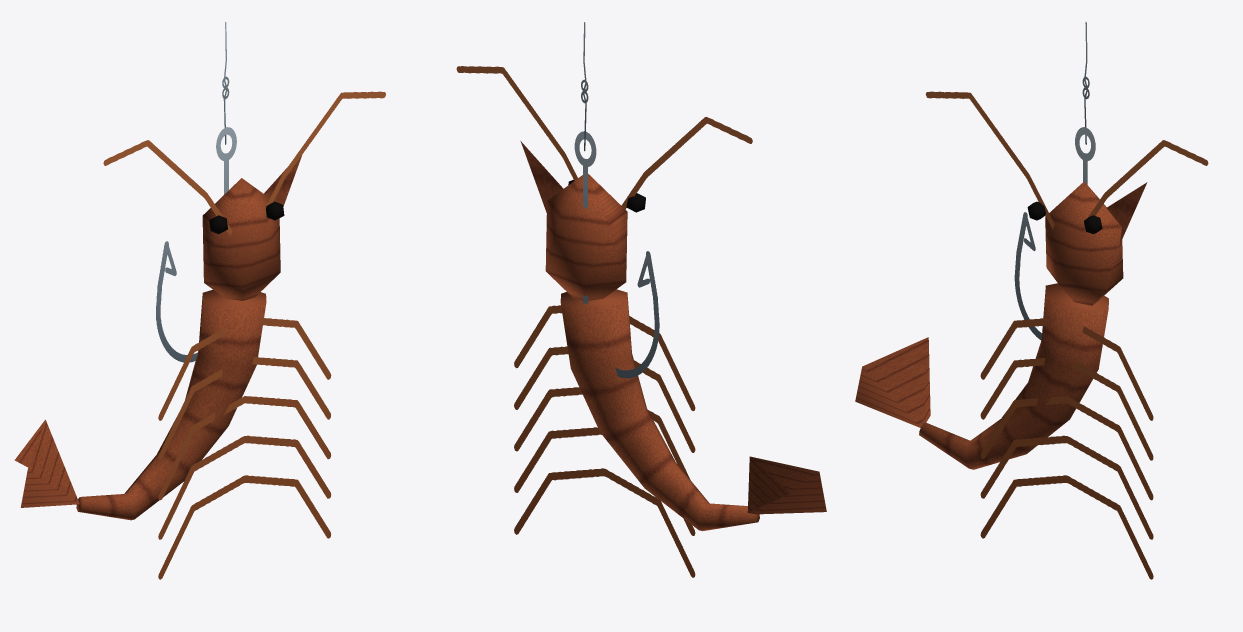
File: dead_shrimp.glb
3 renders of one model, left to right at view 1: azimuth 30°, elevation 25°; view 2: azimuth 150°, elevation 25°; view 3: azimuth 330°, elevation 25°, orthographic. The views are drawn at different scales.
Parts seen in each view (by area): view 1: dead_shrimp__Shrimp_abdomen_MESH, dead_shrimp__Shrimp_legs_and_antennae_ALPHA, dead_shrimp__Shrimp_head_MESH, dead_shrimp__Shrimp_tail_fan_MESH, dead_shrimp__Hook_ALPHA_only.001, dead_shrimp__Shrimp_rostrum_MESH; view 2: dead_shrimp__Shrimp_abdomen_MESH, dead_shrimp__Shrimp_legs_and_antennae_ALPHA, dead_shrimp__Shrimp_head_MESH, dead_shrimp__Shrimp_tail_fan_MESH, dead_shrimp__Hook_ALPHA_only.001, dead_shrimp__Shrimp_rostrum_MESH; view 3: dead_shrimp__Shrimp_abdomen_MESH, dead_shrimp__Shrimp_legs_and_antennae_ALPHA, dead_shrimp__Shrimp_head_MESH, dead_shrimp__Shrimp_tail_fan_MESH, dead_shrimp__Hook_ALPHA_only.001, dead_shrimp__Shrimp_rostrum_MESH.
Boxes of the visible parts, bbox=[...] form: dead_shrimp__Shrimp_abdomen_MESH: bbox=[76, 289, 266, 520]; dead_shrimp__Shrimp_legs_and_antennae_ALPHA: bbox=[103, 91, 385, 579]; dead_shrimp__Shrimp_head_MESH: bbox=[202, 178, 280, 300]; dead_shrimp__Shrimp_tail_fan_MESH: bbox=[14, 419, 79, 507]; dead_shrimp__Hook_ALPHA_only.001: bbox=[156, 127, 236, 362]; dead_shrimp__Shrimp_rostrum_MESH: bbox=[264, 155, 301, 206]; dead_shrimp__Shrimp_abdomen_MESH: bbox=[560, 289, 759, 531]; dead_shrimp__Shrimp_legs_and_antennae_ALPHA: bbox=[456, 66, 752, 577]; dead_shrimp__Shrimp_head_MESH: bbox=[545, 174, 627, 300]; dead_shrimp__Shrimp_tail_fan_MESH: bbox=[747, 456, 826, 514]; dead_shrimp__Hook_ALPHA_only.001: bbox=[574, 131, 659, 378]; dead_shrimp__Shrimp_rostrum_MESH: bbox=[520, 141, 563, 213]; dead_shrimp__Shrimp_abdomen_MESH: bbox=[919, 283, 1108, 469]; dead_shrimp__Shrimp_legs_and_antennae_ALPHA: bbox=[925, 91, 1208, 579]; dead_shrimp__Shrimp_head_MESH: bbox=[1045, 181, 1123, 305]; dead_shrimp__Shrimp_tail_fan_MESH: bbox=[855, 337, 930, 427]; dead_shrimp__Hook_ALPHA_only.001: bbox=[1014, 127, 1095, 340]; dead_shrimp__Shrimp_rostrum_MESH: bbox=[1106, 182, 1147, 244].
Bounding box in the file's own units: 0.054 × 0.0738 × 0.00911.
2 materials, 2 textured.
